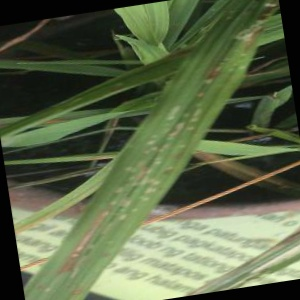Brown_Spot: (41, 202, 116, 277)
